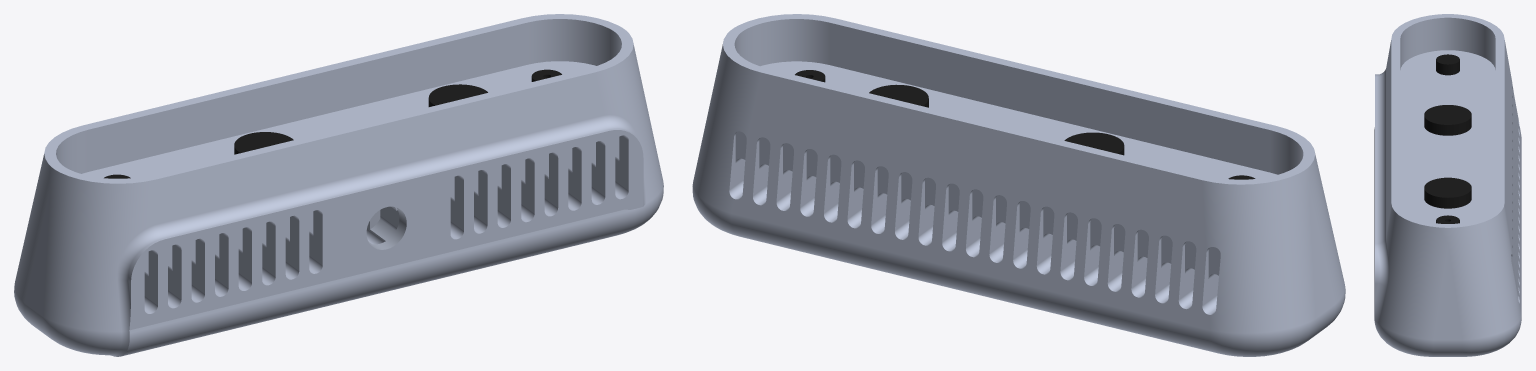
The picture shows the model from 3 angles, left to right: view 1: azimuth 30°, elevation 25°; view 2: azimuth 150°, elevation 25°; view 3: azimuth 270°, elevation 25°; orthographic projection. The views are drawn at different scales.
Parts seen in each view (by area): view 1: ID2; view 2: ID2; view 3: ID2.
Boxes of the visible parts, <box> form: ID2: <box>14,14,663,356</box>; ID2: <box>692,14,1345,356</box>; ID2: <box>1374,14,1521,356</box>.
Size of the model in its own units: 0.0907 by 0.0247 by 0.0241.
